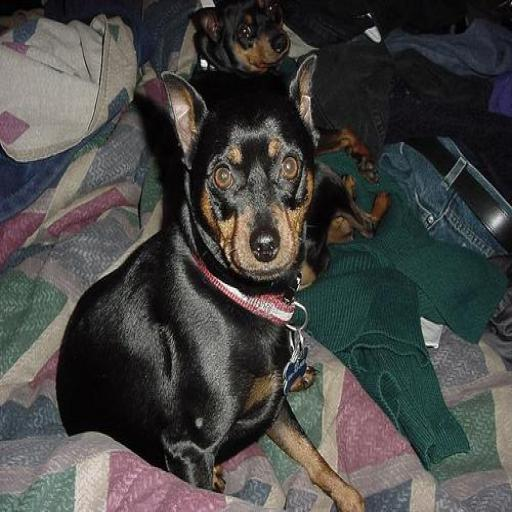dog_face: (161, 50, 313, 274), (197, 4, 299, 70)
